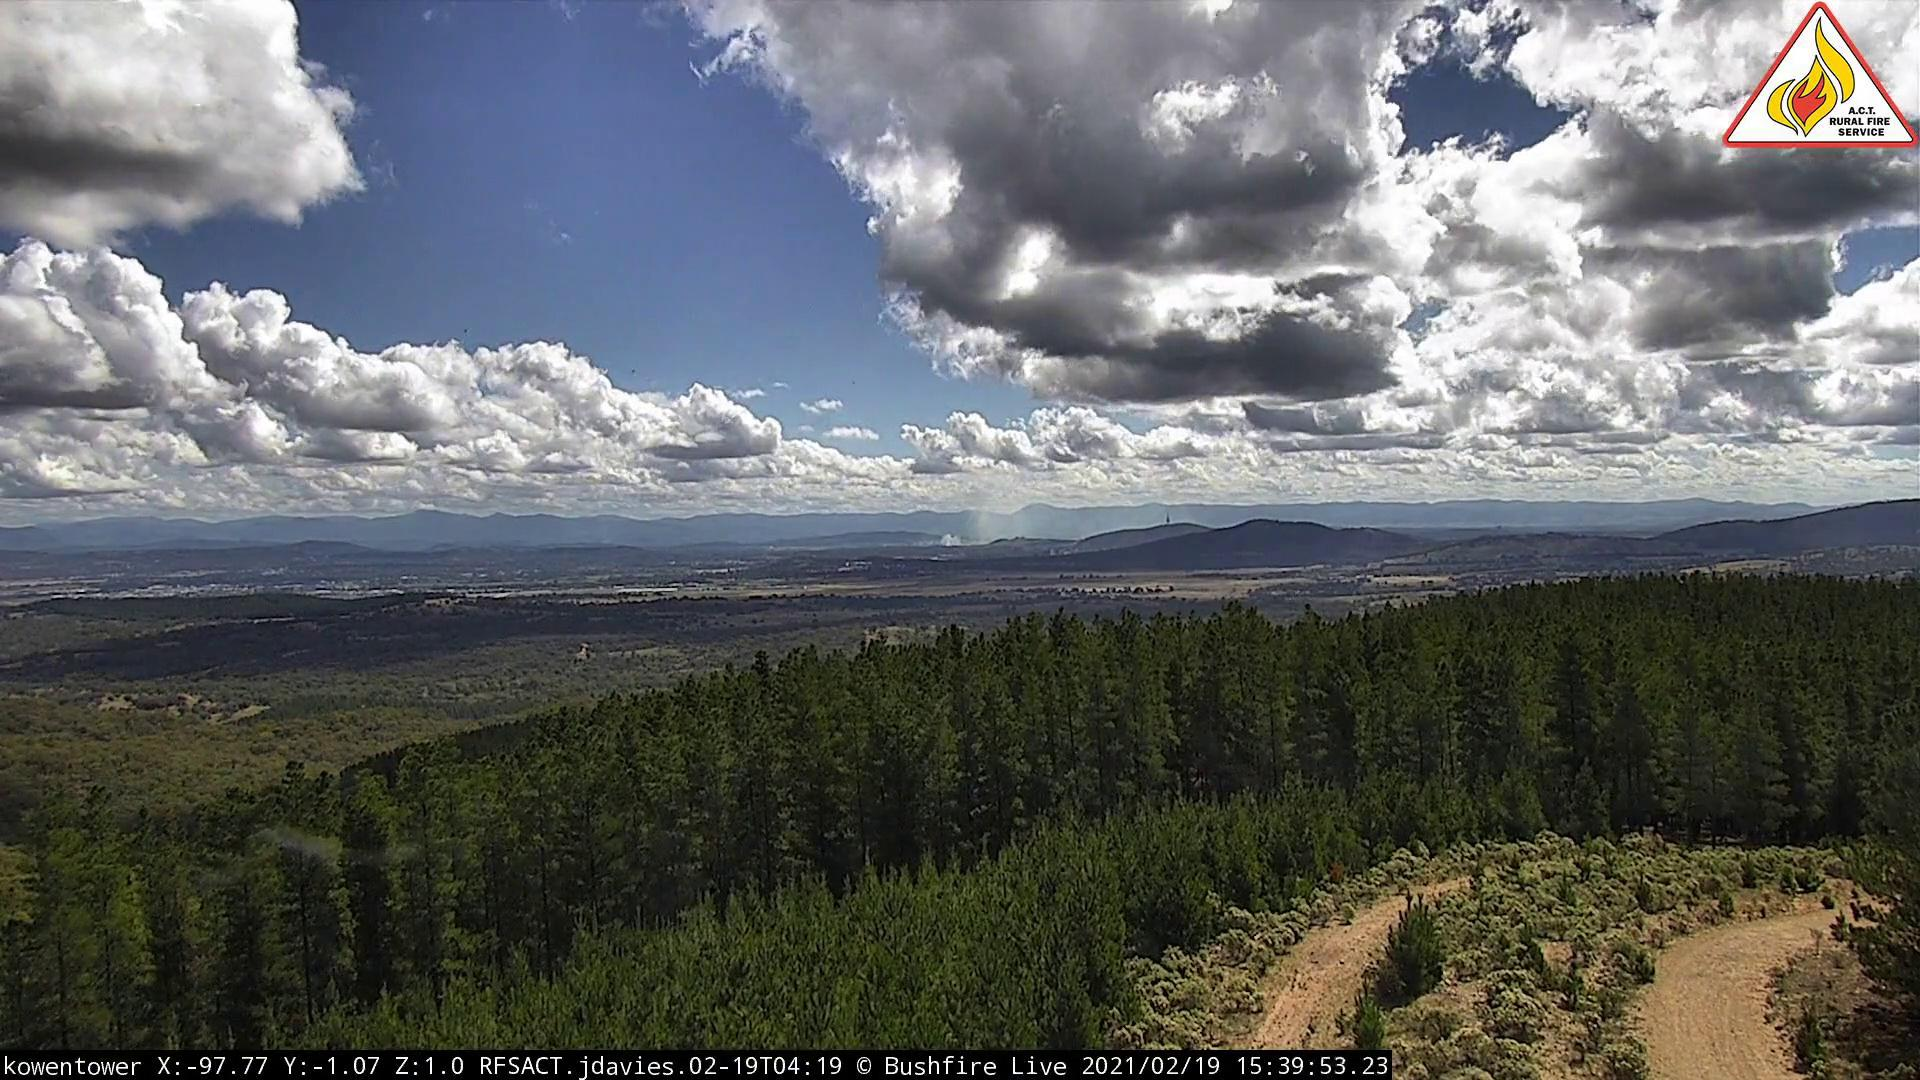Smoke: (932, 501, 1039, 553), (597, 534, 622, 554)
